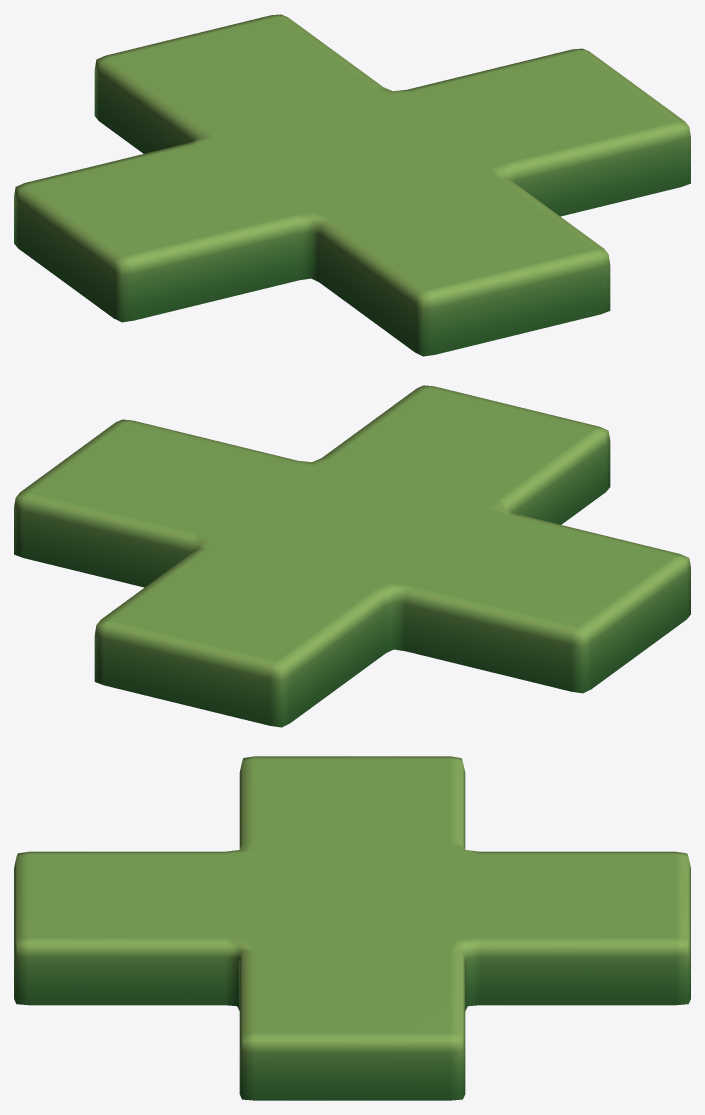
Rendered from Plus.fbx.
The picture shows the model from 3 angles, top to bottom: view 1: azimuth 30°, elevation 25°; view 2: azimuth 150°, elevation 25°; view 3: azimuth 270°, elevation 25°; orthographic projection. The views are drawn at different scales.
Parts seen in each view (by area): view 1: Plane.005; view 2: Plane.005; view 3: Plane.005.
Part boxes in pixels (x1,y1,x2,y2): Plane.005: (14, 14, 690, 356); Plane.005: (14, 385, 690, 727); Plane.005: (14, 756, 690, 1100).
Bounding box in the file's own units: 343 × 34.32 × 343.
